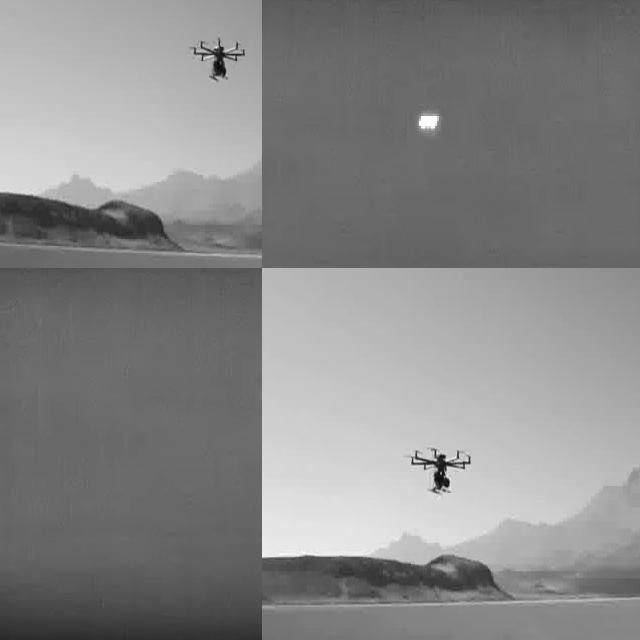1: (409, 111, 445, 141)
drone: (405, 443, 471, 499), (190, 31, 247, 86)
